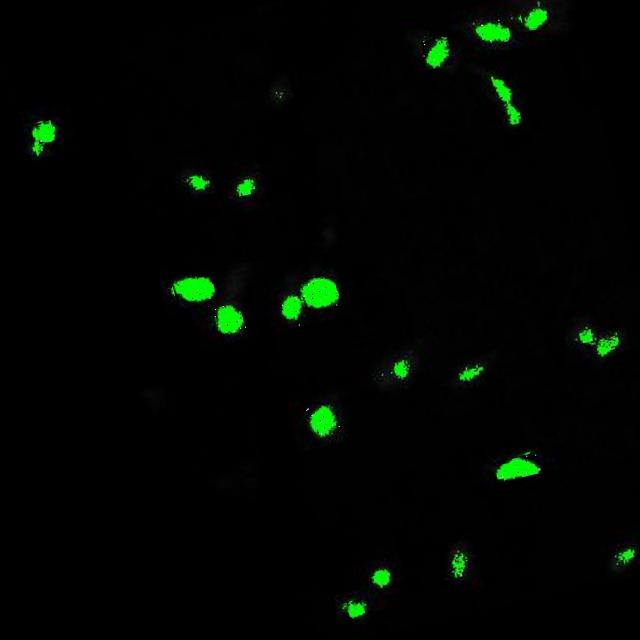Cell: (298, 274, 341, 314), (171, 270, 216, 308), (492, 452, 542, 482), (306, 402, 342, 442), (420, 35, 454, 70), (212, 302, 246, 336), (518, 4, 550, 32), (478, 18, 508, 46), (280, 296, 306, 328), (34, 120, 54, 144), (345, 598, 365, 618)
